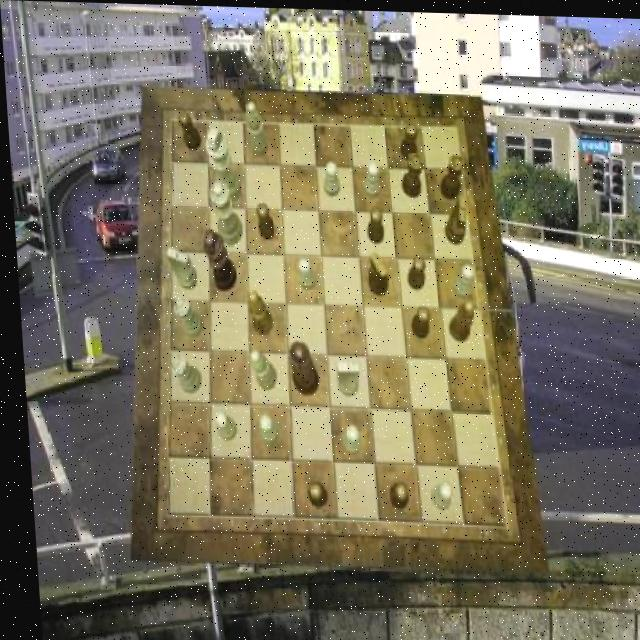bishop: (443, 298, 471, 341), (244, 290, 270, 334)
black-bishop: (198, 229, 234, 291)
black-king: (440, 193, 466, 243), (363, 249, 386, 292)
black-knight: (175, 110, 200, 148), (397, 120, 418, 159), (404, 304, 426, 337), (403, 254, 424, 288), (254, 201, 273, 238), (363, 207, 382, 243), (381, 479, 402, 507), (299, 479, 320, 505)
black-pawn: (284, 338, 314, 394)
black-queen: (437, 151, 464, 197), (397, 150, 422, 196)
black-rook: (243, 101, 266, 156), (244, 348, 271, 389)
white-bishop: (202, 126, 239, 202)
white-king: (162, 247, 193, 289), (331, 360, 356, 395)
white-knight: (448, 261, 472, 298), (360, 159, 379, 197), (208, 409, 231, 440), (318, 159, 337, 194), (425, 480, 448, 508), (294, 257, 313, 290), (253, 413, 272, 443), (337, 423, 356, 452)
white-pawn: (206, 180, 241, 245)
white-queen: (164, 354, 196, 392), (169, 298, 199, 338)
